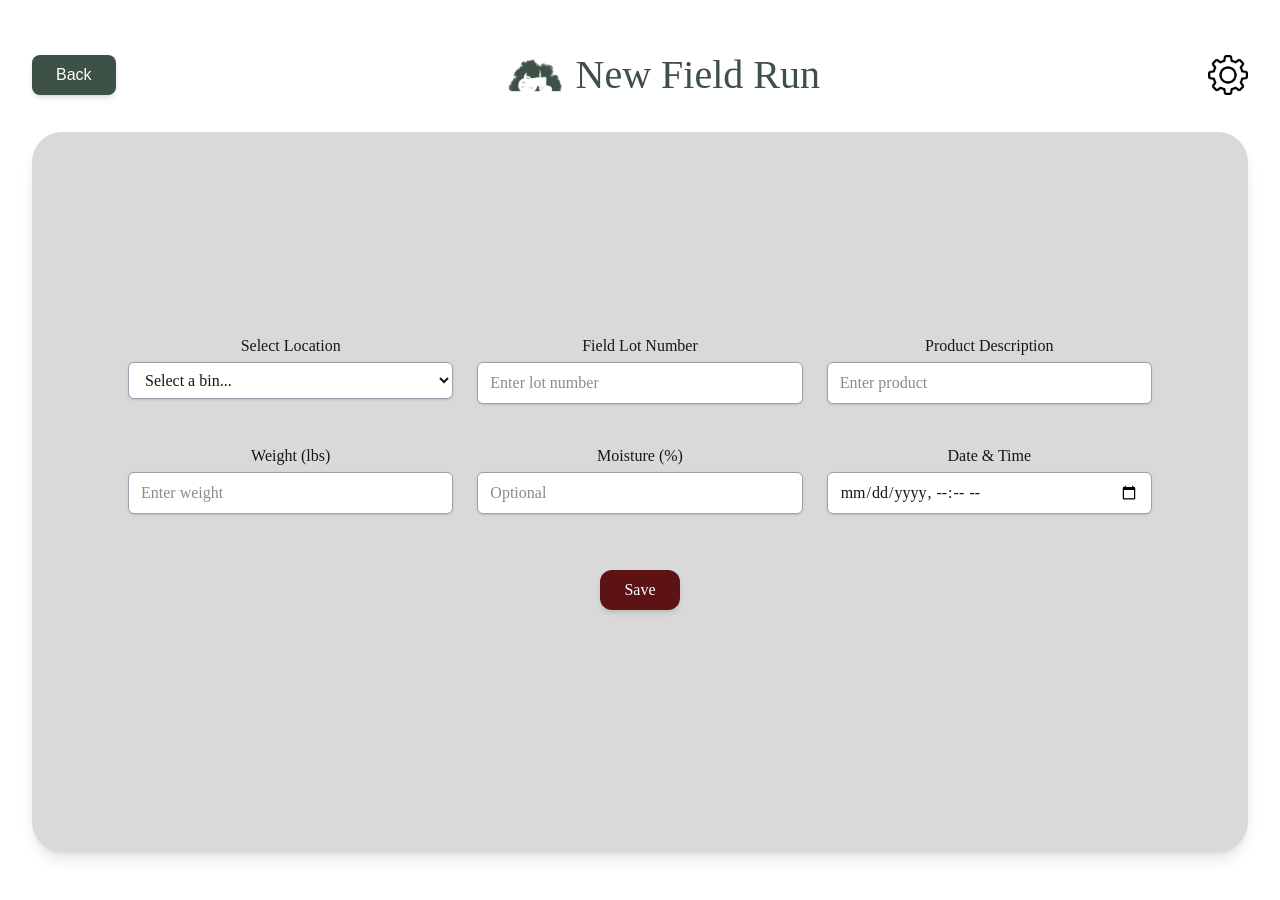
NewFieldRun page › shows error when required fields are empty
Click the button "Save" at [640, 590], box [600, 570, 680, 610]
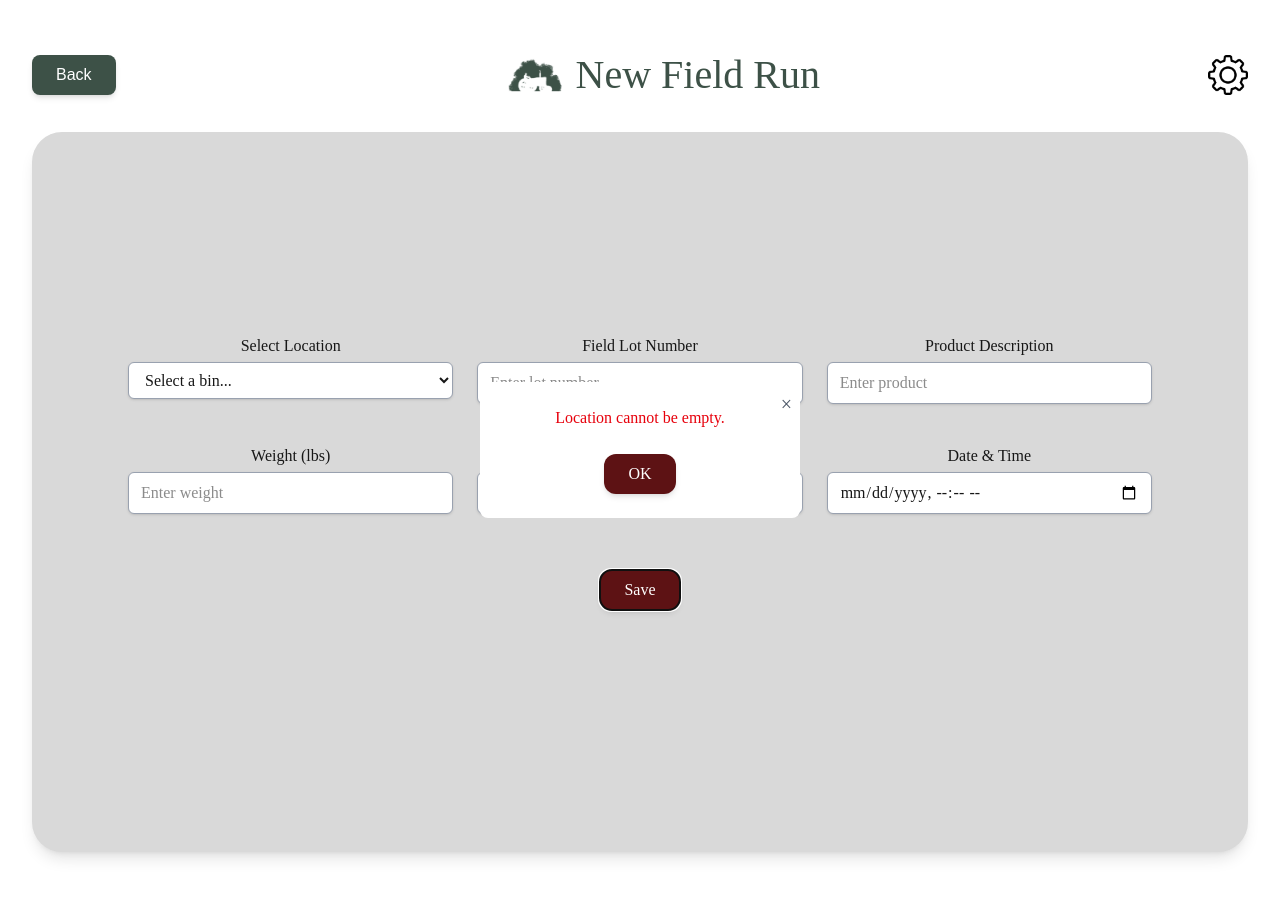
Result: the text "Location cannot be empty." is shown at [555, 409, 725, 426]
Result: the button "OK" is shown at [604, 454, 676, 494]
